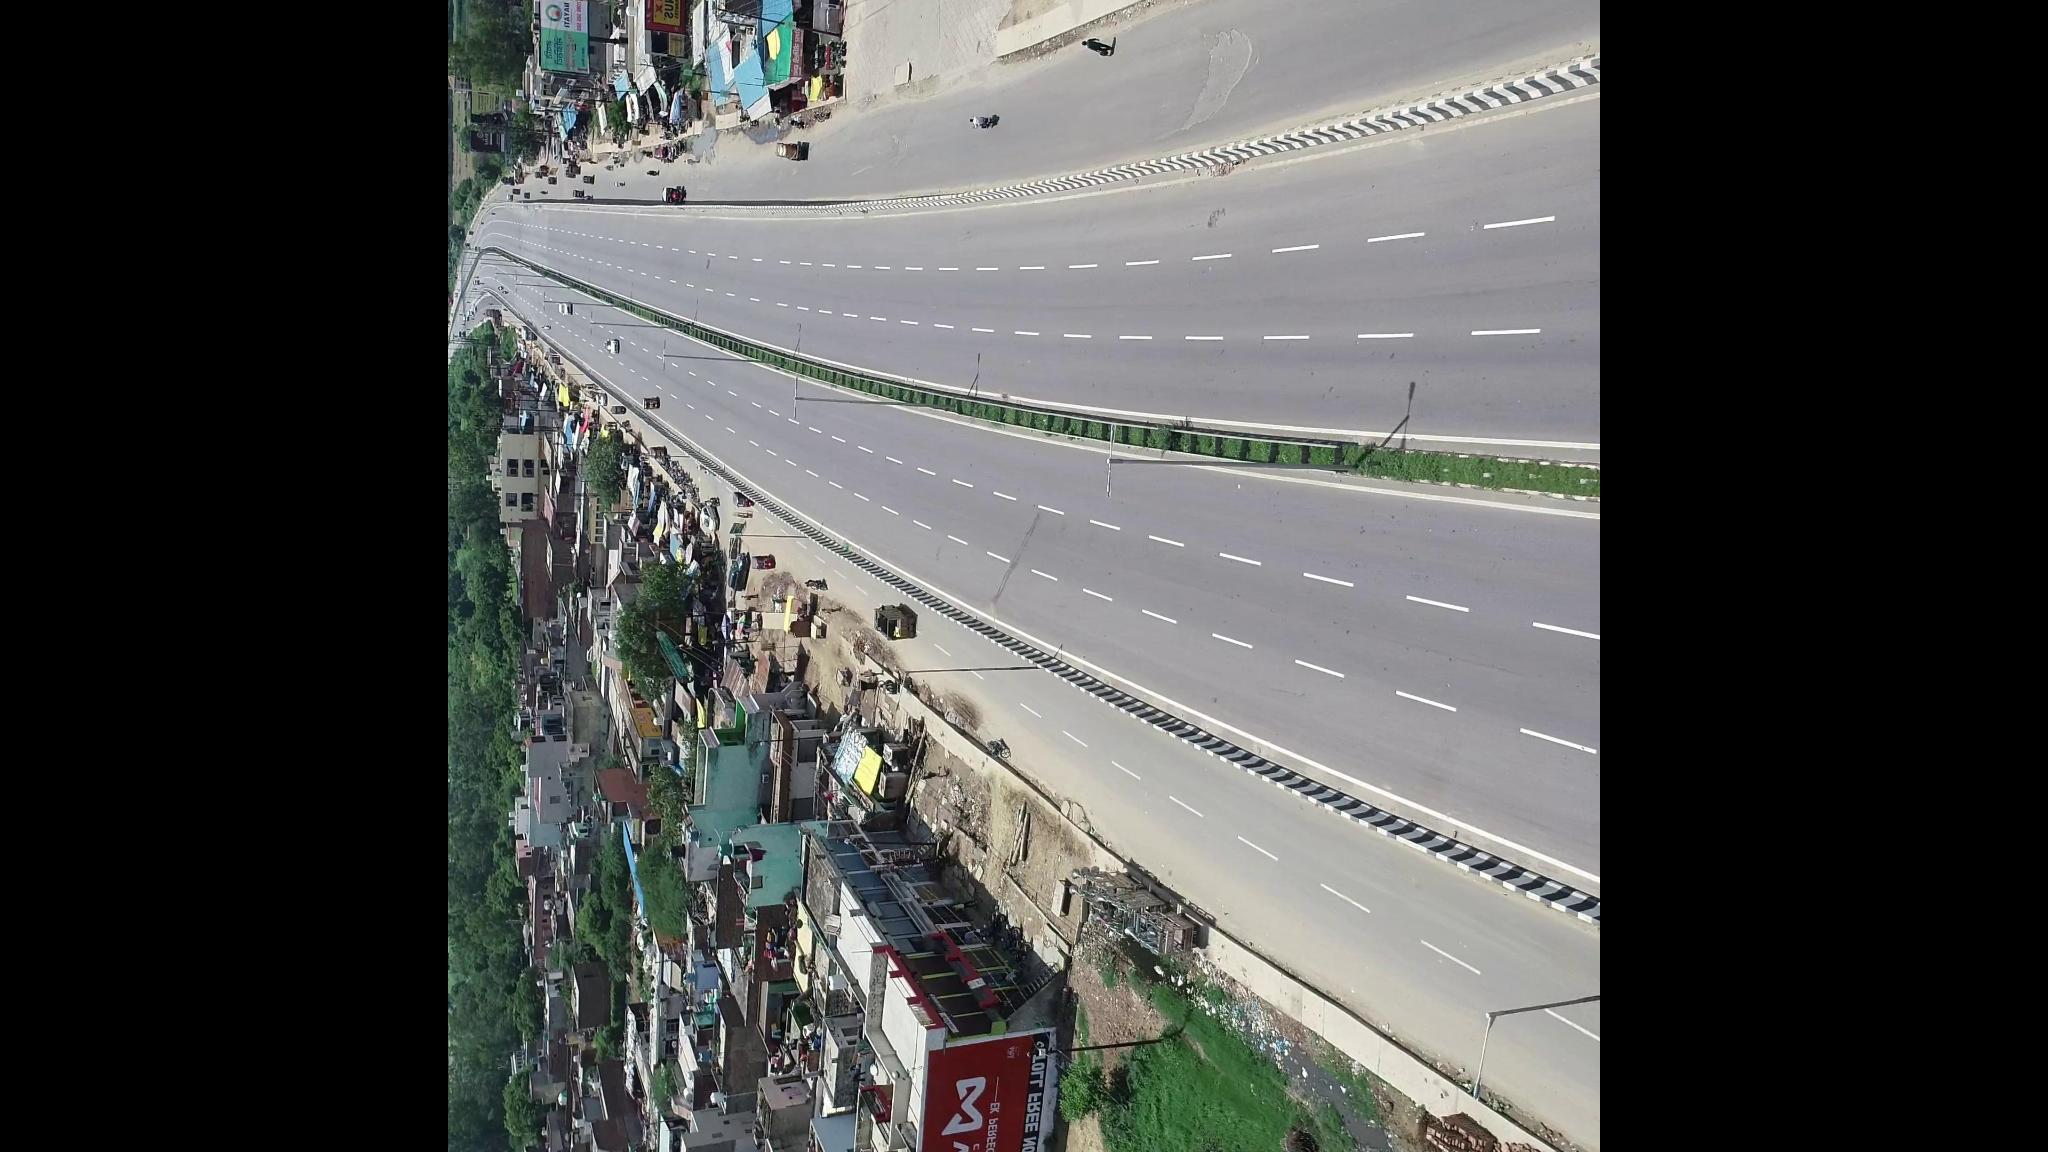Potholes: (1158, 6, 1267, 131)
